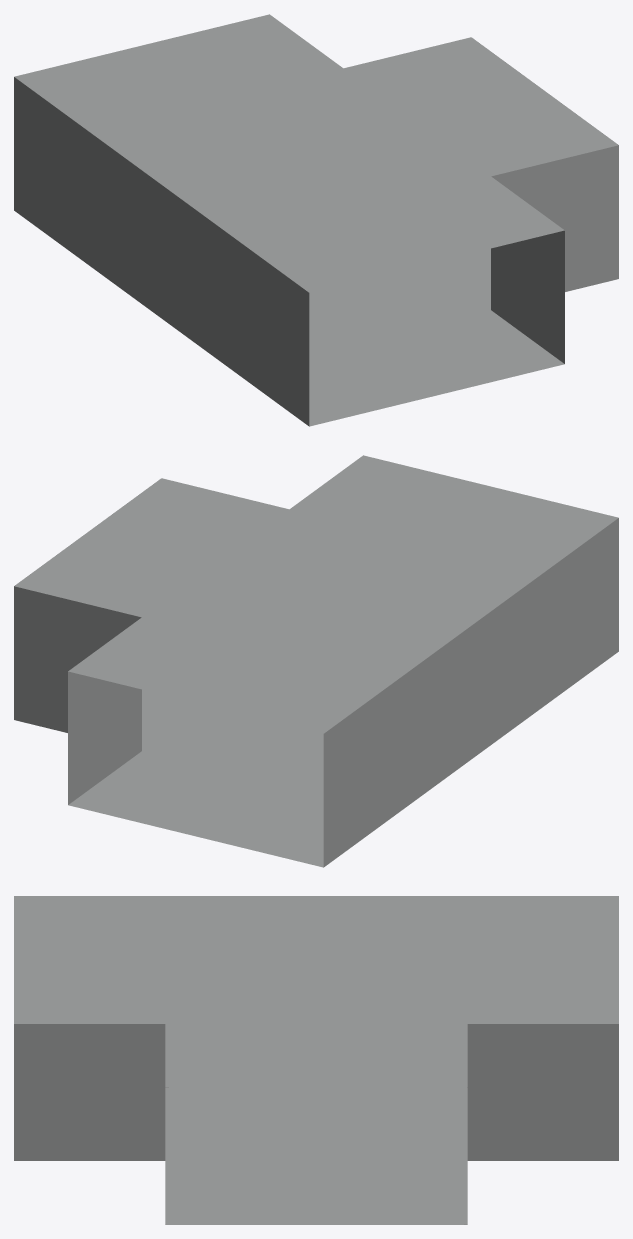
File: HVAC_Tee_25x50.fbx
3 views of the same model, one above another, from view 1: azimuth 30°, elevation 25°; view 2: azimuth 150°, elevation 25°; view 3: azimuth 270°, elevation 25° (orthographic). The views are drawn at different scales.
Parts seen in each view (by area): view 1: HVAC_Tee_25x50; view 2: HVAC_Tee_25x50; view 3: HVAC_Tee_25x50.
Boxes of the visible parts, left/top/right/bottom form: HVAC_Tee_25x50: left=14, top=14, right=618, bottom=426; HVAC_Tee_25x50: left=14, top=455, right=618, bottom=867; HVAC_Tee_25x50: left=14, top=896, right=618, bottom=1224.
Size of the model in its own units: 0.0075 by 0.0025 by 0.01.
